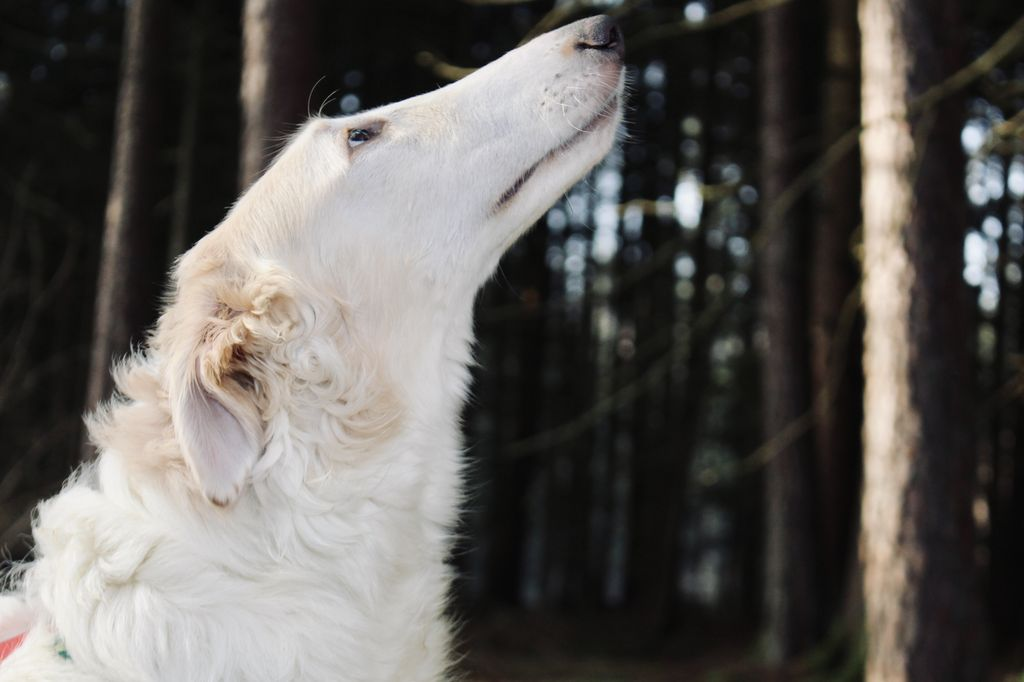borzoi: (2, 11, 647, 678)
